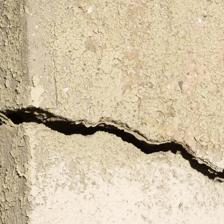Crack: (2, 49, 219, 138)
